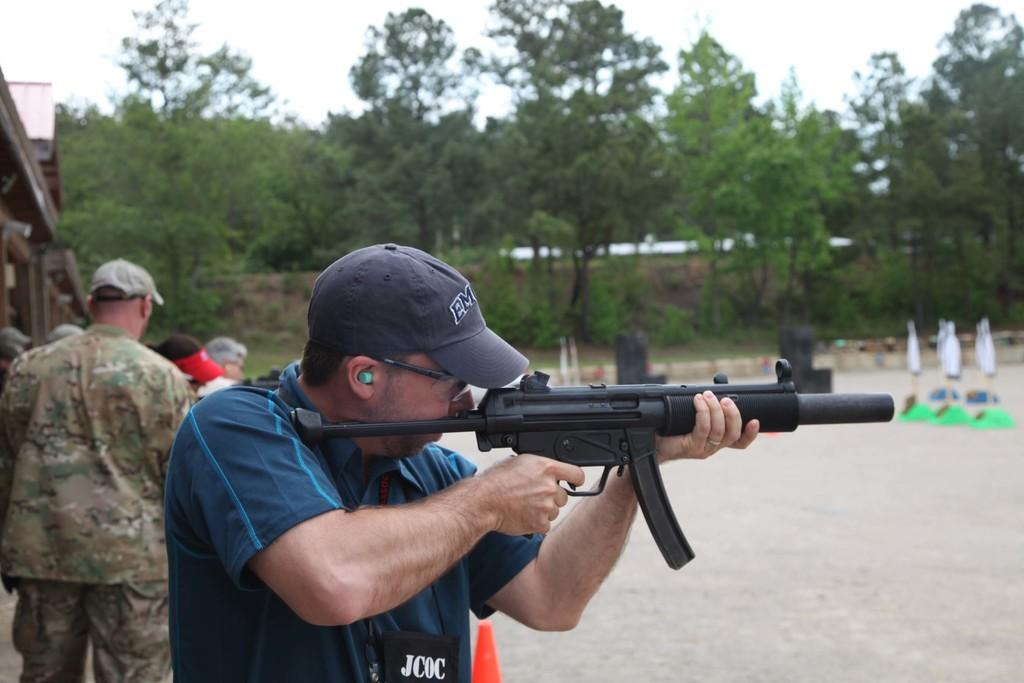Rifle: (297, 374, 889, 563)
